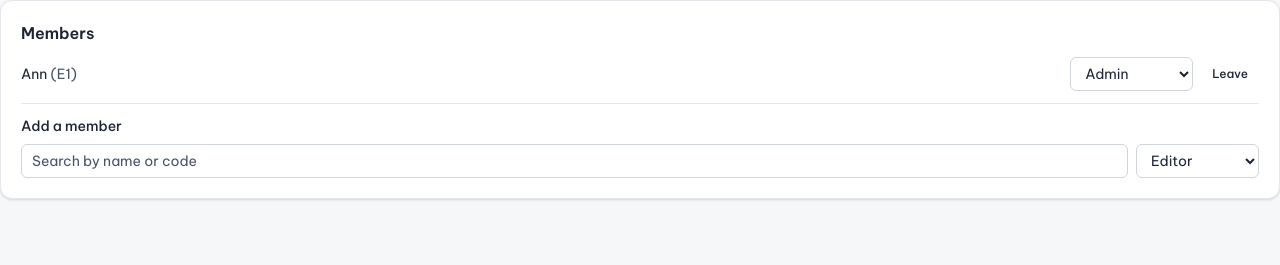
Scenario: MembersPanel › shows the server's refusal, for example the last admin
Click the button with aria-label "Remove Ann": (1230, 74) 1201,61 -> 1259,87
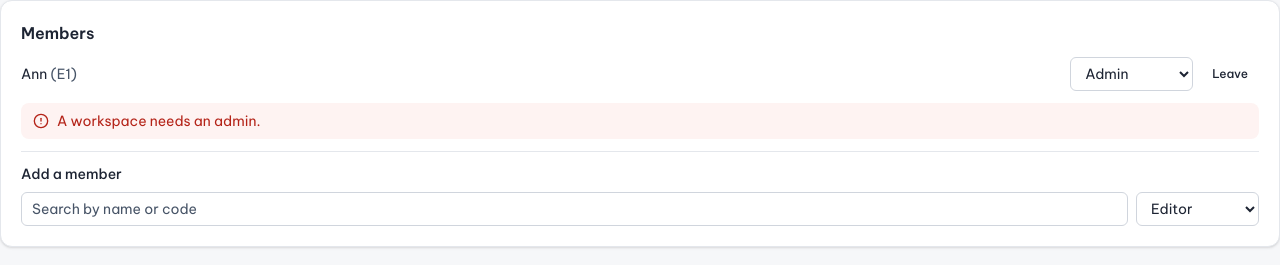
expect the message shows "needs an admin": met, box 57,112 -> 260,130
